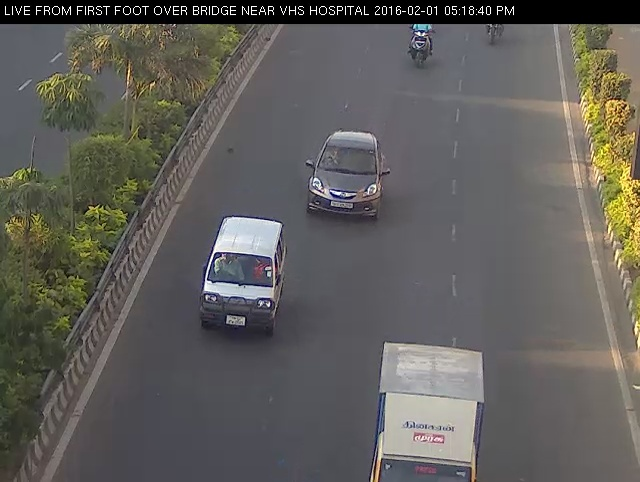Auto: (359, 327, 495, 482)
Car: (193, 211, 294, 345), (291, 124, 404, 232)
Person: (406, 18, 439, 78)
